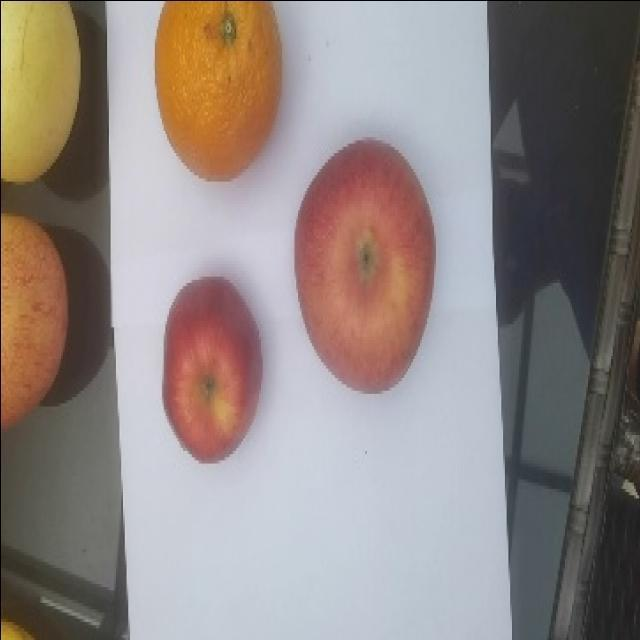Apple: (293, 137, 436, 394), (161, 276, 263, 464), (0, 212, 69, 430)
Orange: (153, 0, 282, 181)
